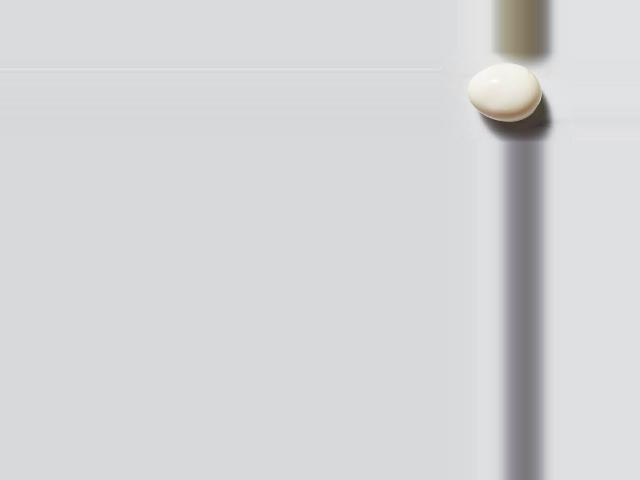egg: (468, 63, 542, 122)
